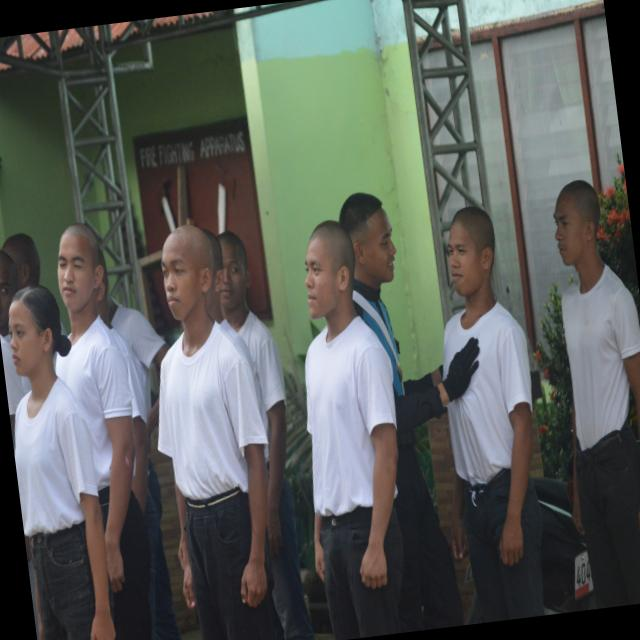person: (340, 193, 478, 631), (159, 226, 273, 639), (444, 207, 544, 621), (305, 221, 403, 639), (56, 224, 151, 639), (219, 231, 314, 639), (10, 286, 115, 639), (554, 181, 639, 607)
